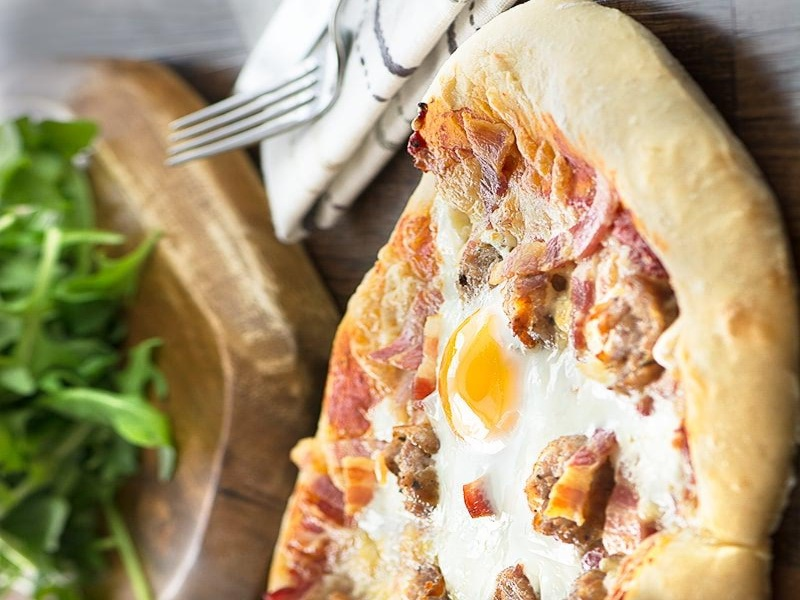oeuf: (431, 305, 556, 459)
